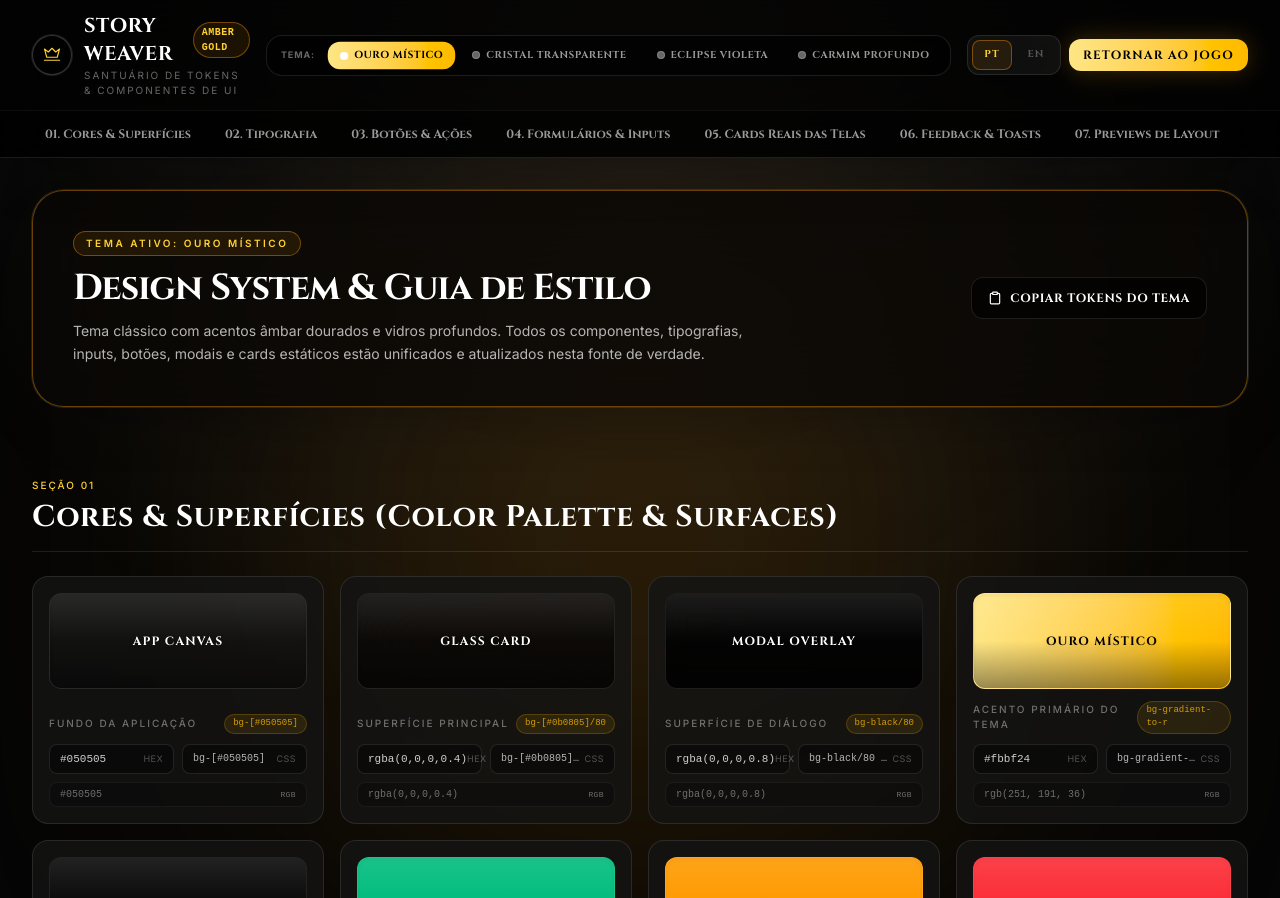
DesignSystemScreen Component › allows switching between PT and EN using LanguageToggle in SysD header
The image size is (1280, 898).
Expected: the text "Retornar ao Jogo" is shown, [1083,47,1234,63]
Click the button "PT EN": (1014, 55) [967,35,1061,75]
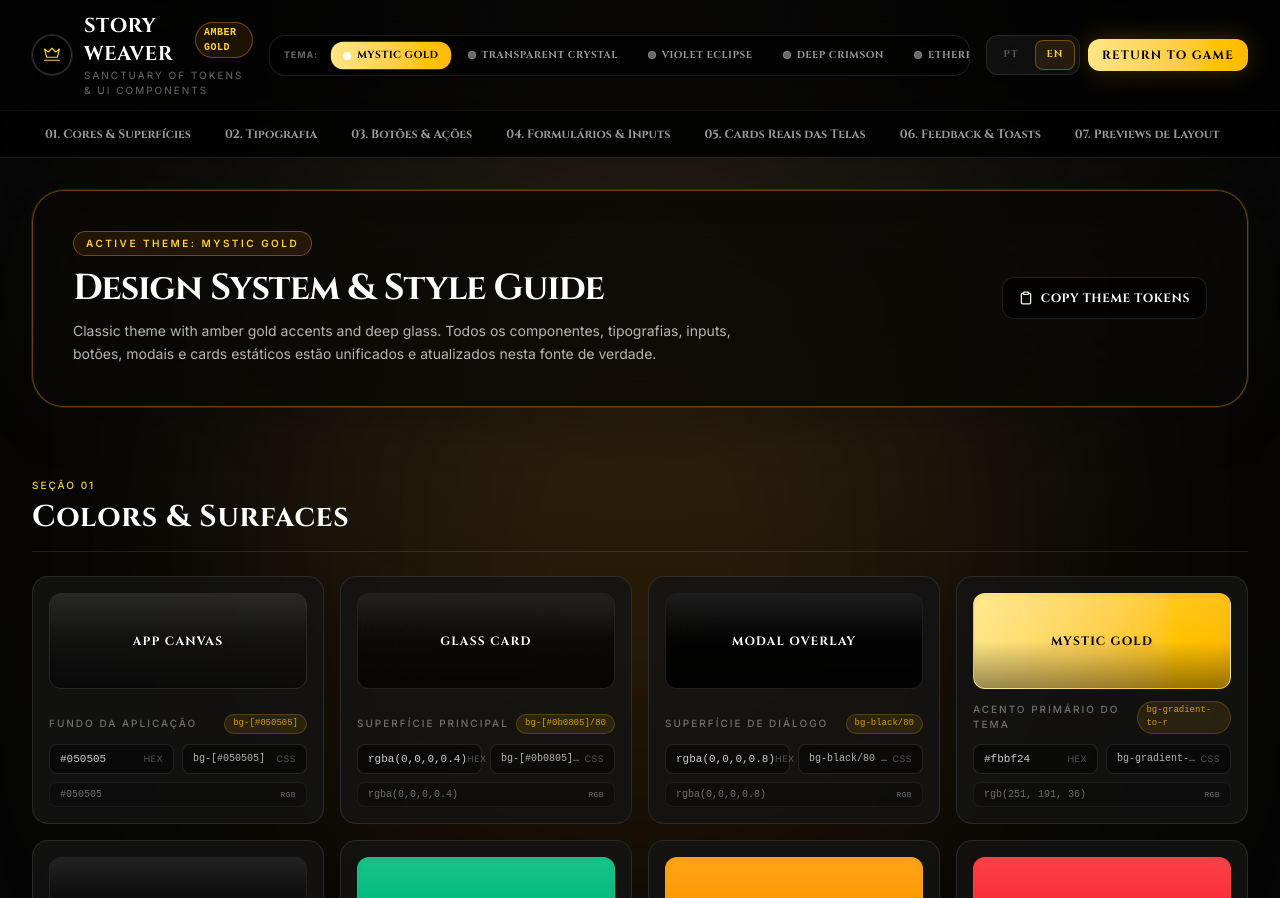
Expected: the text "Return to Game" is shown, [1102,47,1234,63]
Expected: the heading "Design System & Style Guide" is shown, [73,264,604,312]
